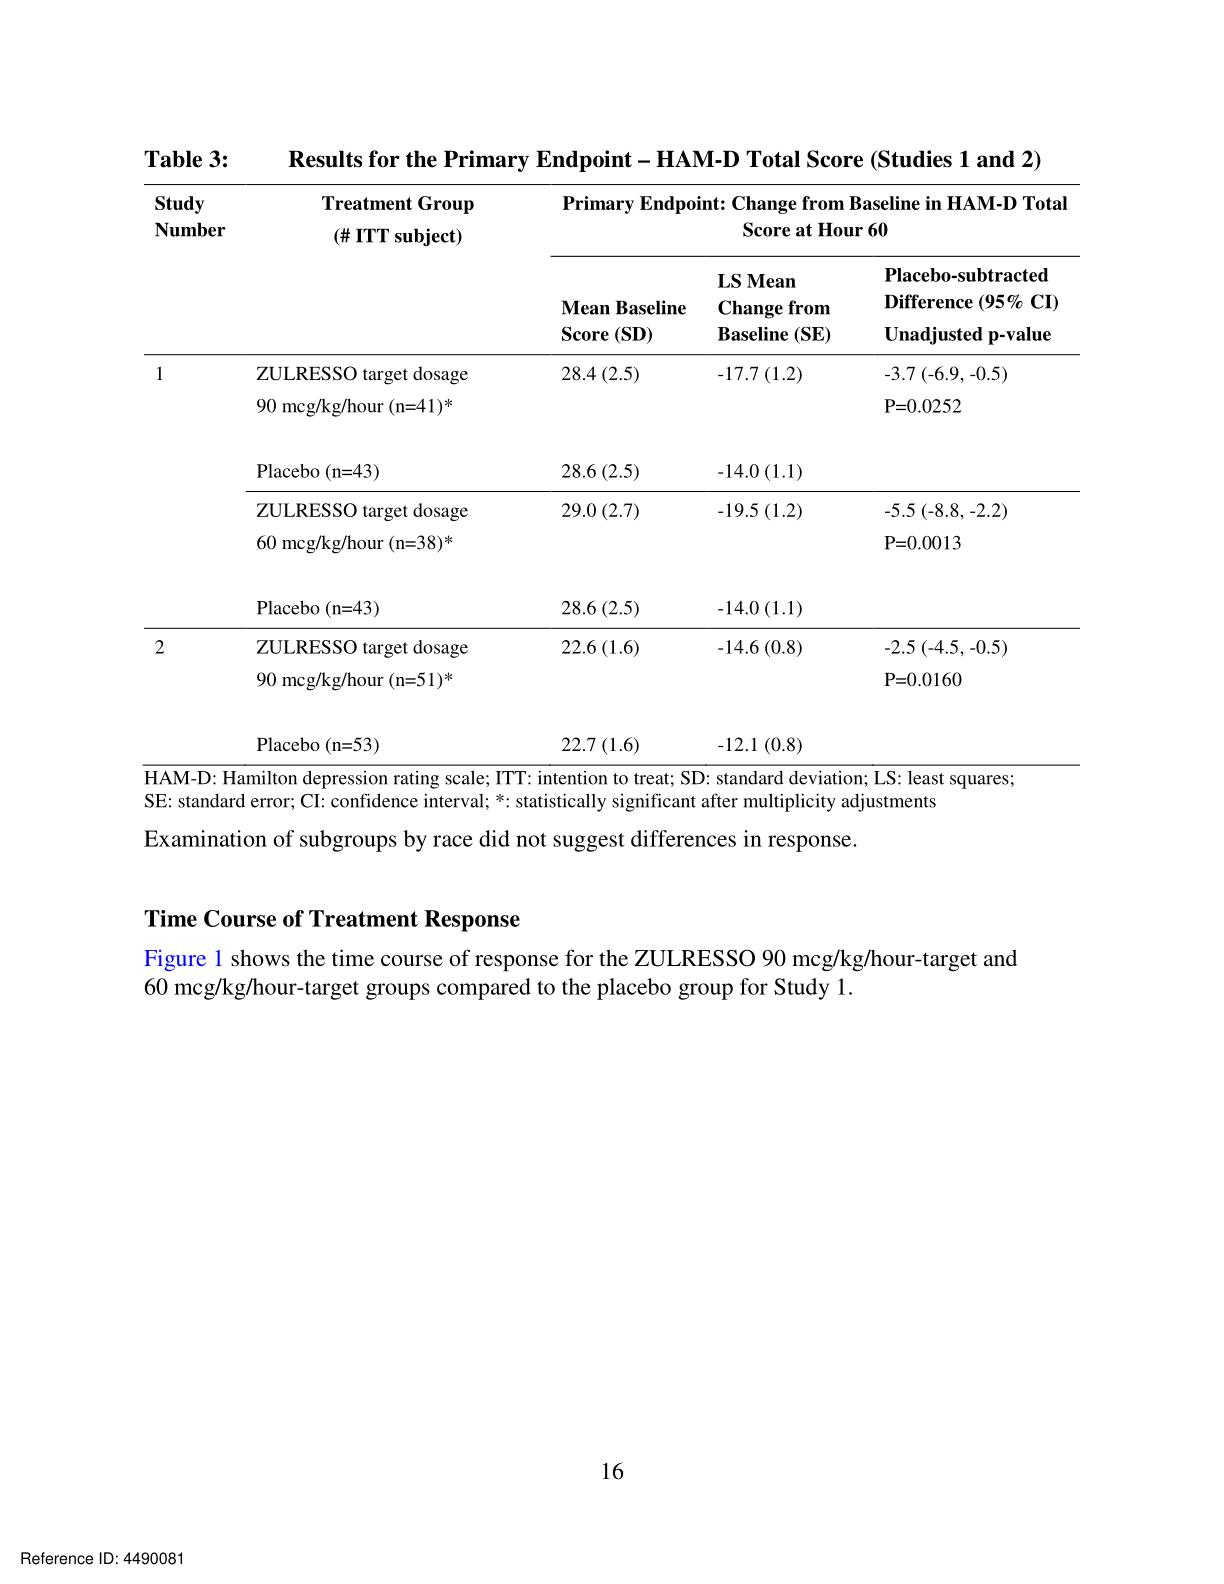partial_lined_merged_cells: (143, 183, 1081, 768)
